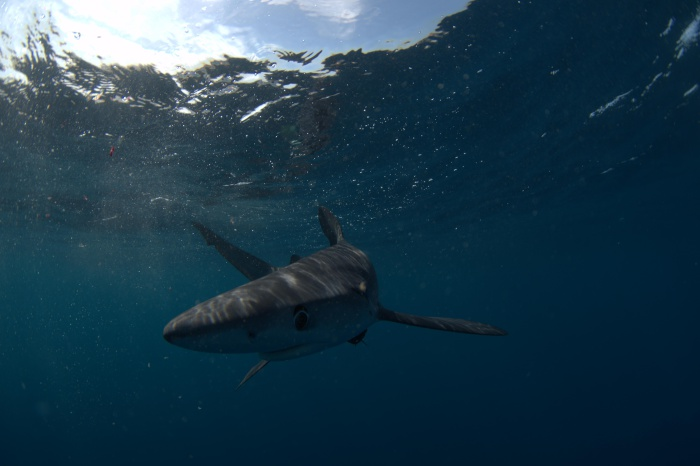Azul: (148, 203, 518, 393)
